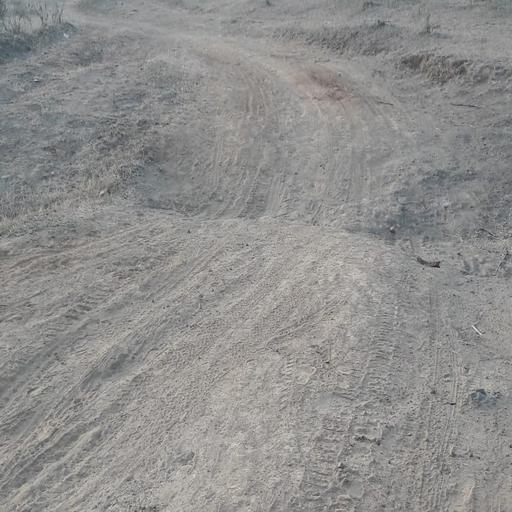vehicle_track: (0, 38, 462, 512)
